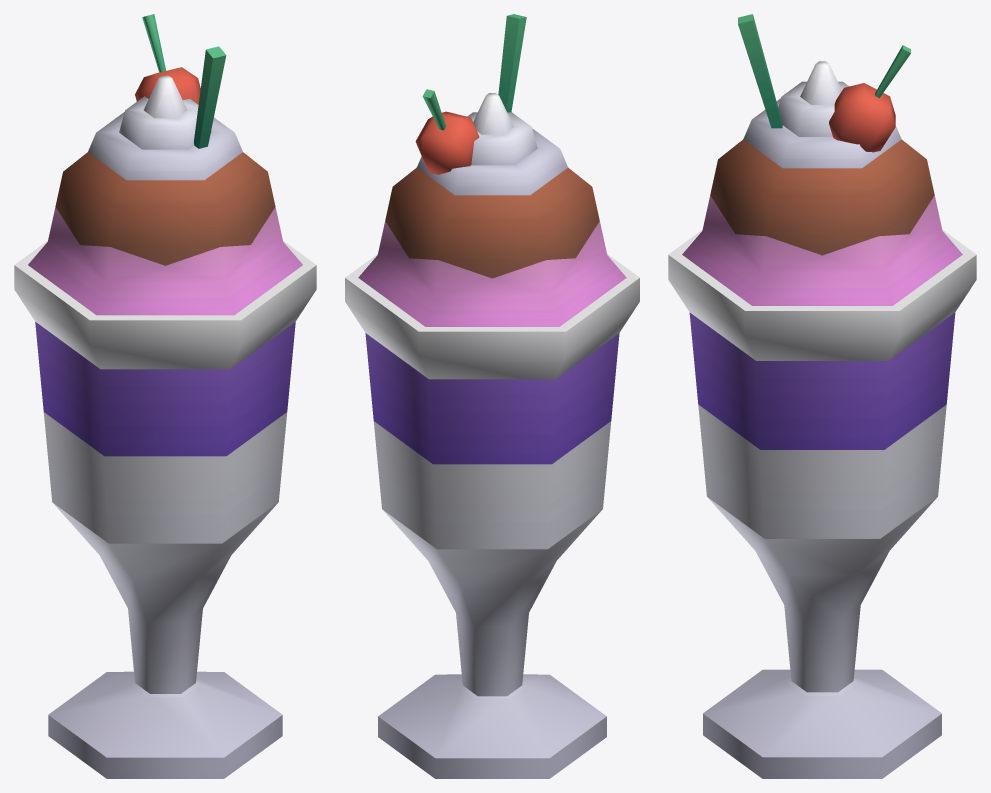
File: sundae.glb
The picture shows the model from 3 angles, left to right: view 1: azimuth 30°, elevation 25°; view 2: azimuth 150°, elevation 25°; view 3: azimuth 270°, elevation 25°; orthographic projection. The views are drawn at different scales.
Visible parts, largest first — view 1: sundae, straw, cherry; view 2: sundae, cherry, straw; view 3: sundae, cherry, straw.
Boxes of the visible parts, bbox=[...] form: sundae: bbox=[14, 75, 316, 778]; straw: bbox=[194, 46, 226, 148]; cherry: bbox=[135, 14, 200, 104]; sundae: bbox=[345, 93, 639, 778]; cherry: bbox=[415, 89, 479, 174]; straw: bbox=[498, 14, 526, 112]; sundae: bbox=[668, 61, 976, 778]; cherry: bbox=[829, 45, 910, 152]; straw: bbox=[738, 14, 782, 128].
Size of the model in its own units: 0.2232 by 0.6679 by 0.2577.
Materials: 1 (1 with a texture image).
